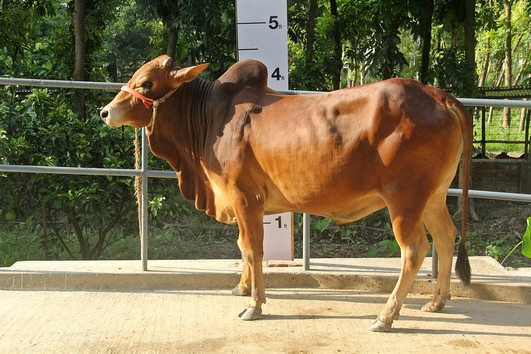cow: (92, 48, 479, 337)
